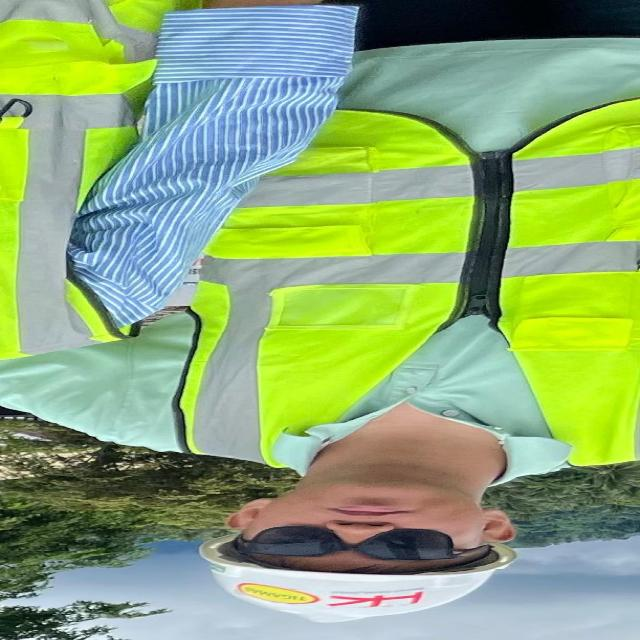safetyhelmet: (184, 464, 554, 626)
